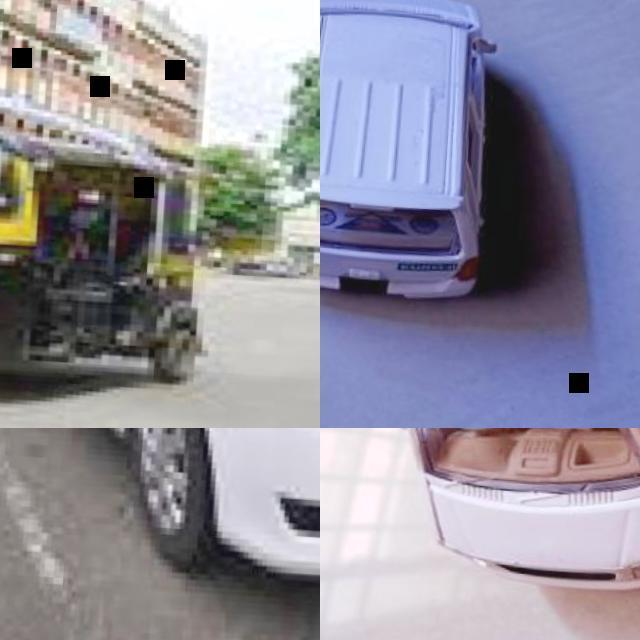car: (8, 115, 201, 382)
